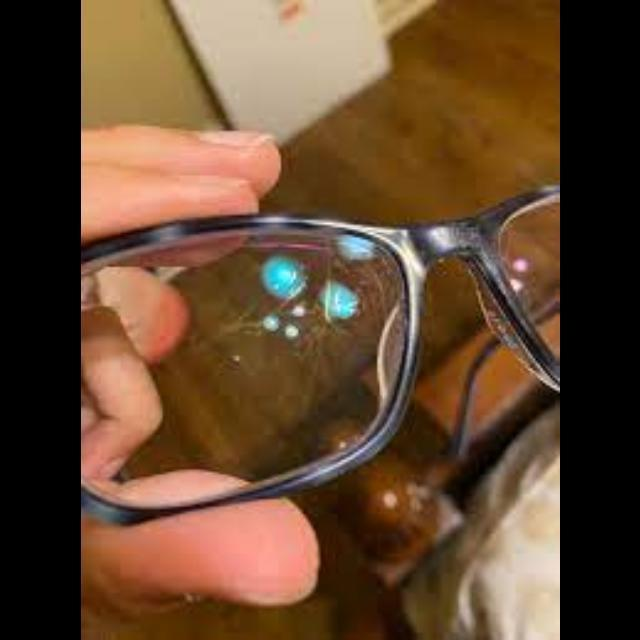glasses: (80, 198, 560, 522)
